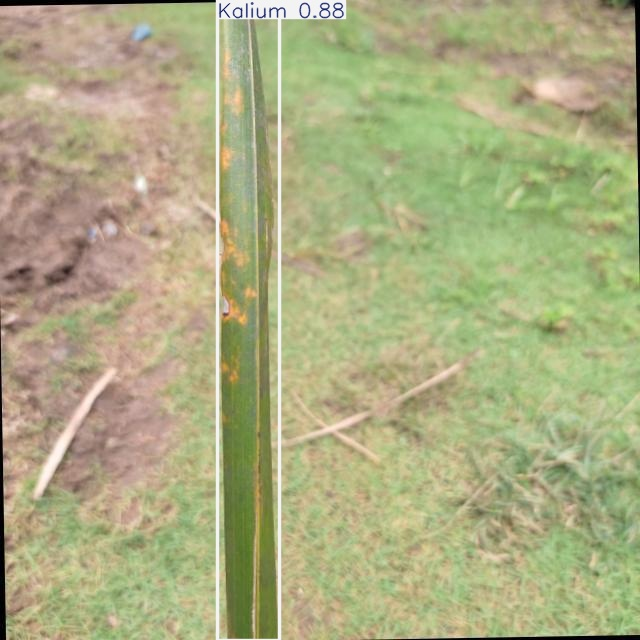Kalium: (217, 0, 279, 640)
